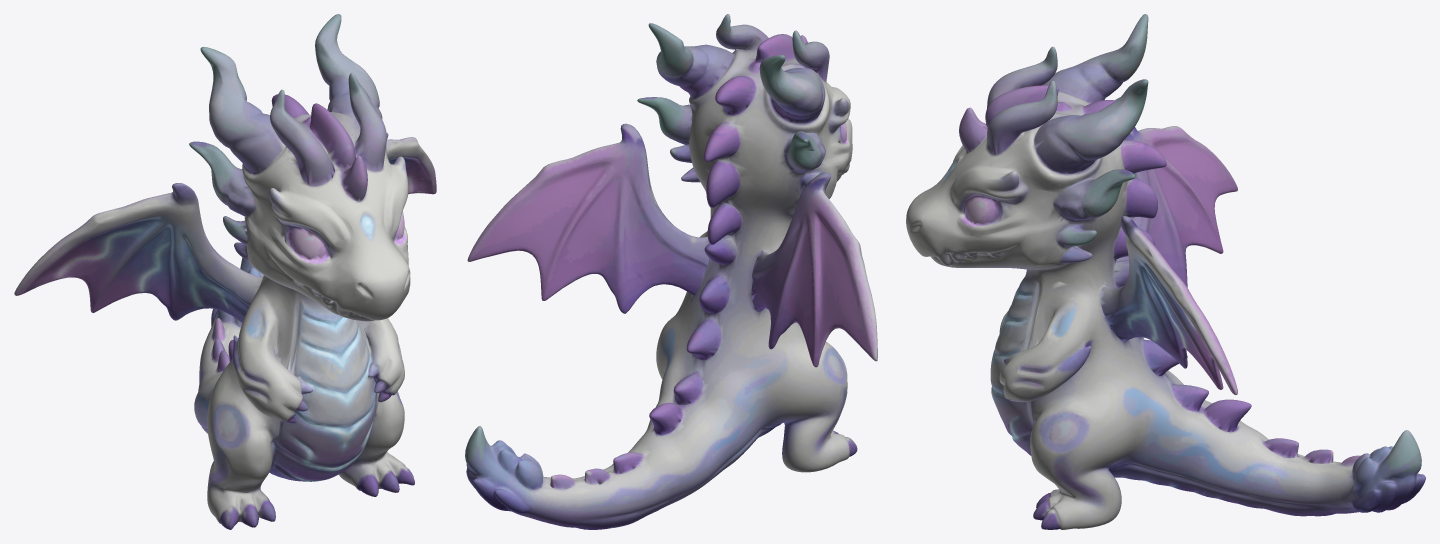
The model's file is stage_6.glb.
3 views of the same model, side by side, from view 1: azimuth 30°, elevation 25°; view 2: azimuth 150°, elevation 25°; view 3: azimuth 270°, elevation 25° (orthographic). The views are drawn at different scales.
Parts seen in each view (by area): view 1: convert; view 2: convert; view 3: convert.
Part boxes in pixels (bbox=[...]): convert: bbox=[14, 14, 436, 529]; convert: bbox=[465, 14, 877, 529]; convert: bbox=[906, 14, 1425, 529].
Size of the model in its own units: 0.8665 by 0.8887 by 0.9291.
Materials: 1 (1 with a texture image).
